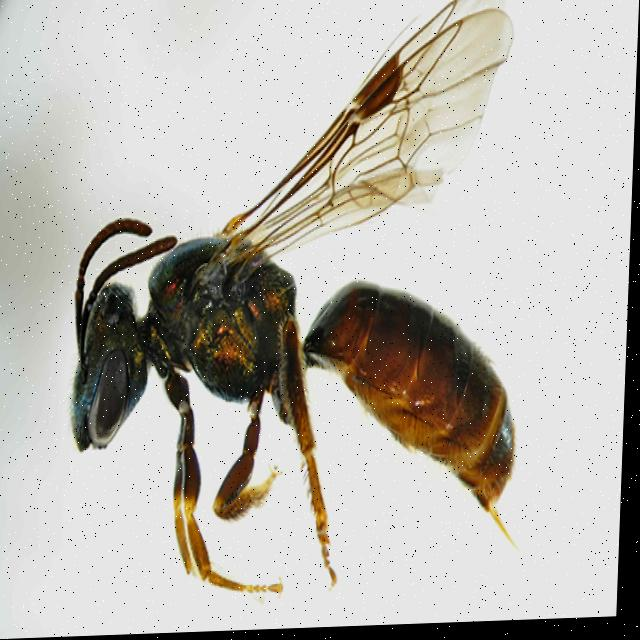Allodapula: (60, 0, 543, 600)
